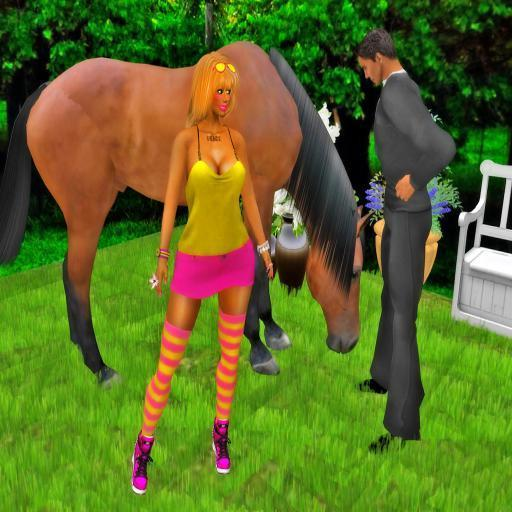horse: (0, 40, 378, 392)
